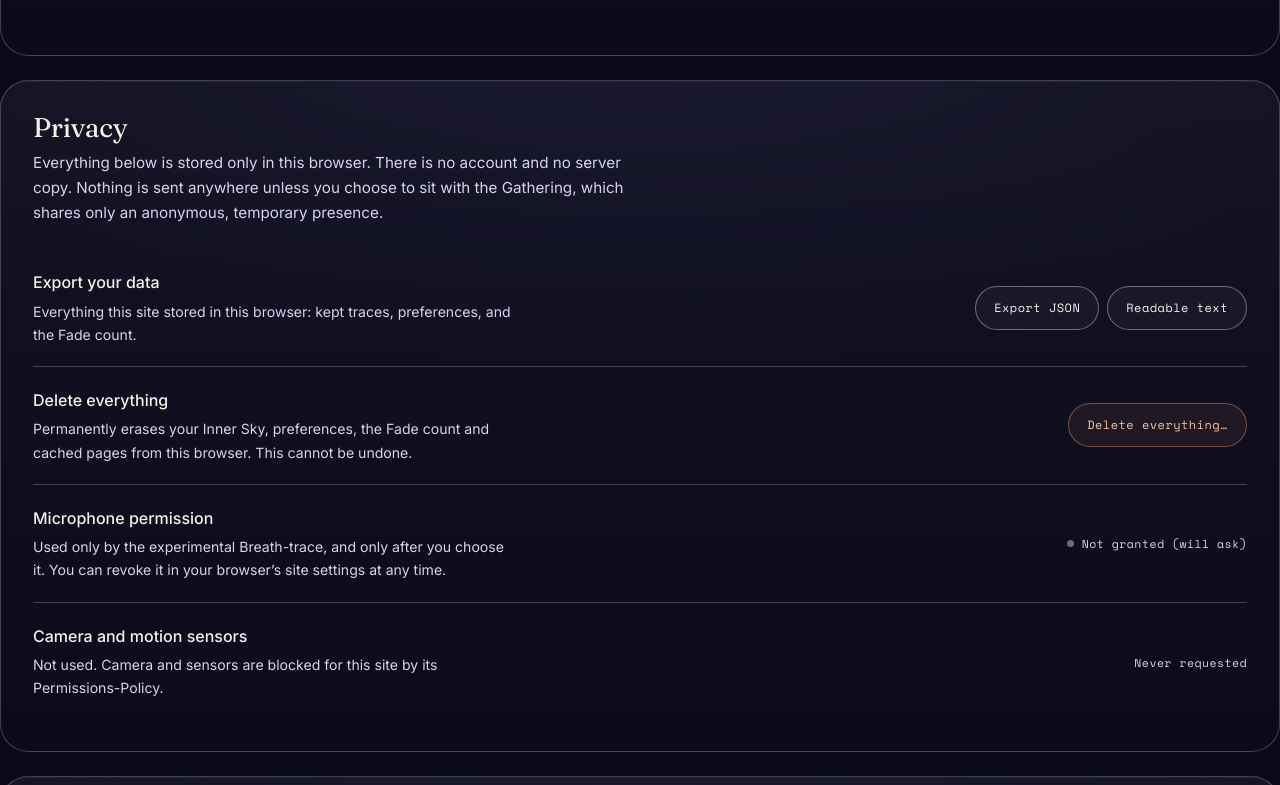
SettingsPanel › deletes everything only after confirmation
(page scrolled)
Click the button with test id "delete-everything" at coordinates (1158, 425), box [1068,403,1247,447]
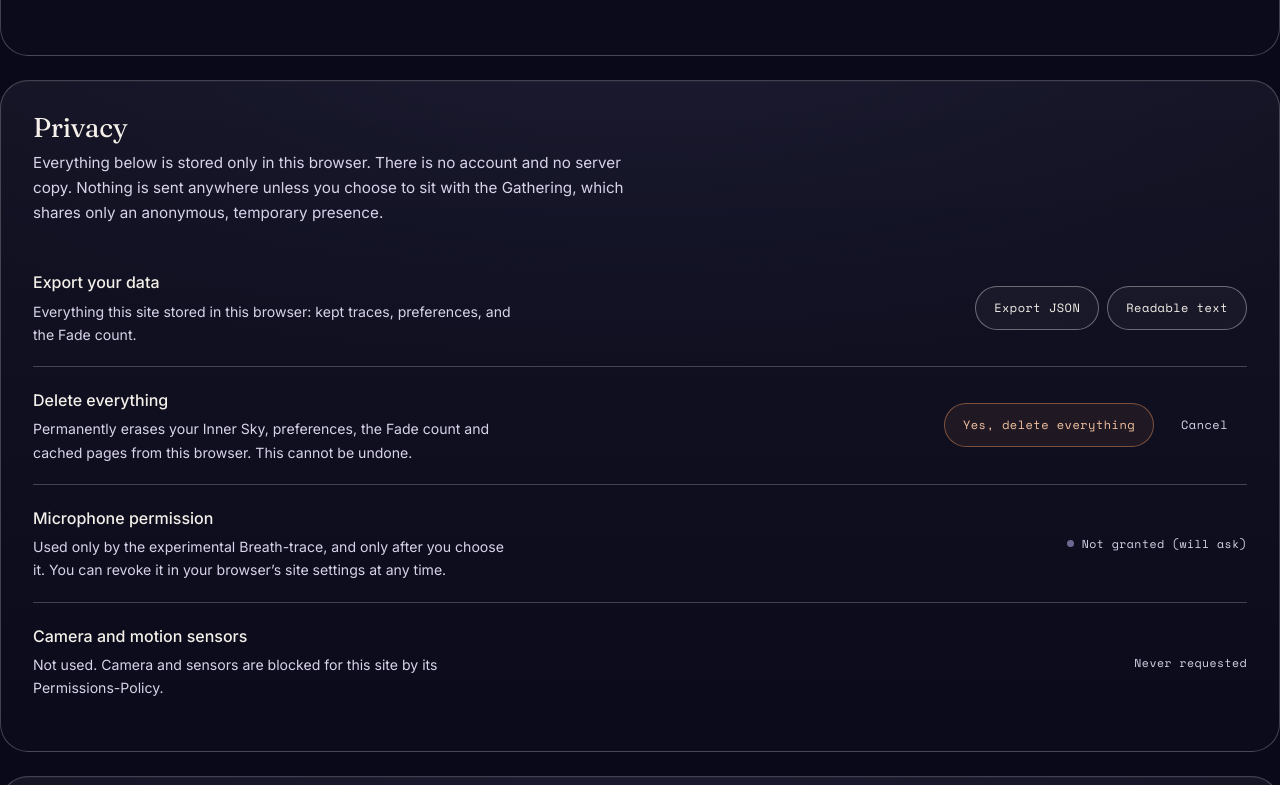
Click the button with test id "confirm-delete" at coordinates (1049, 425), box [944,403,1154,447]
(page scrolled)
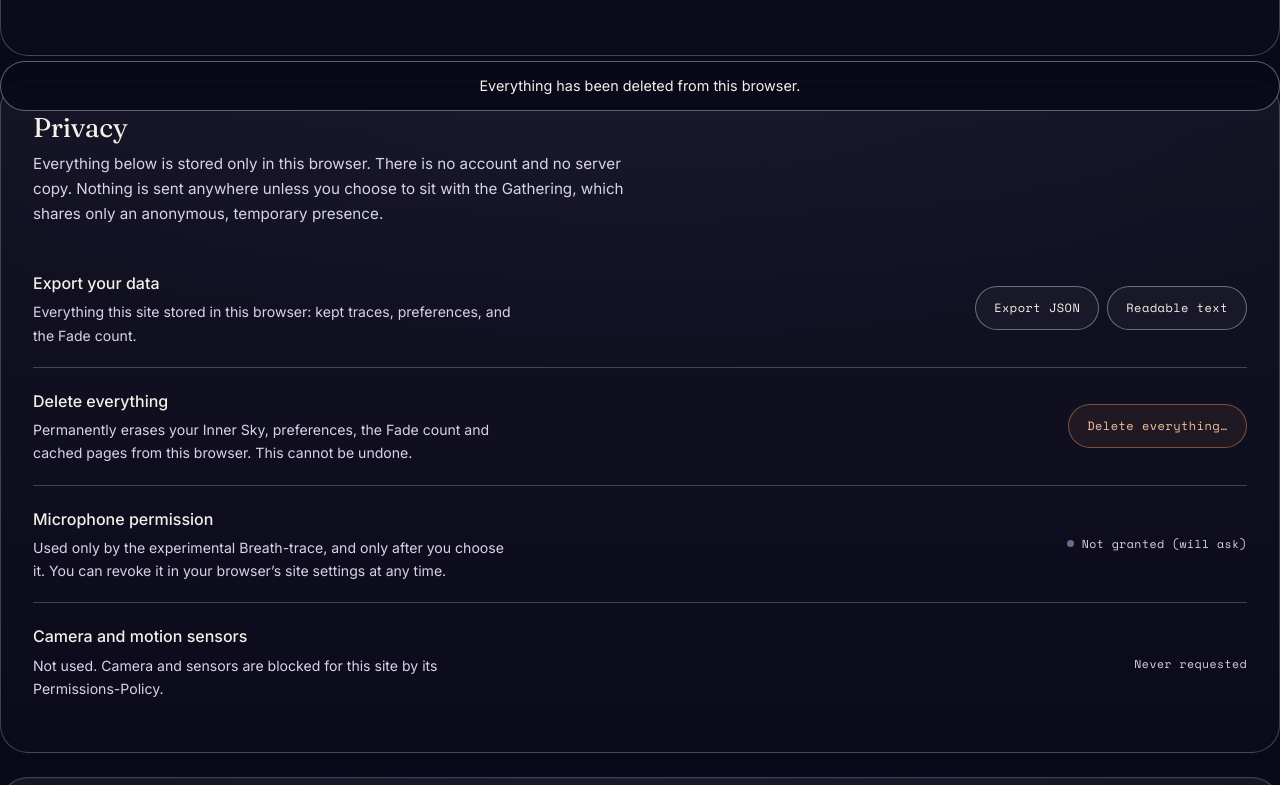
Now the text "Everything has been deleted from this browser." is shown, box [0,61,1279,111]
